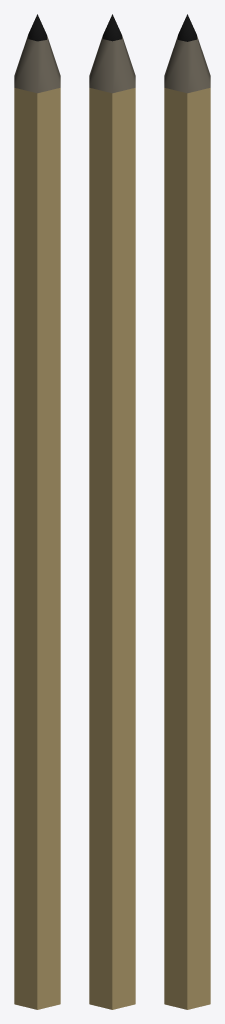
Rendered from Pencil.fbx.
The picture shows the model from 3 angles, left to right: view 1: azimuth 90°, elevation 25°; view 2: azimuth 150°, elevation 25°; view 3: azimuth 330°, elevation 25°; orthographic projection.
Parts seen in each view (by area): view 1: pCylinder1; view 2: pCylinder1; view 3: pCylinder1.
Part boxes in pixels (x1=…): pCylinder1: x1=14, y1=14, x2=60, y2=1009; pCylinder1: x1=89, y1=14, x2=135, y2=1009; pCylinder1: x1=164, y1=14, x2=210, y2=1009.
Size of the model in its own units: 0.5 by 10.09 by 0.433.
